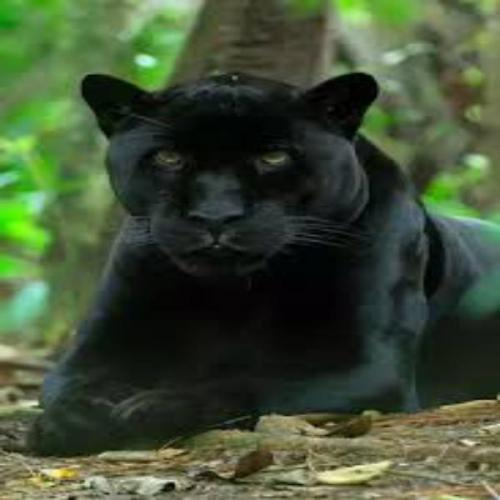panther-endangered: (28, 71, 500, 455)
